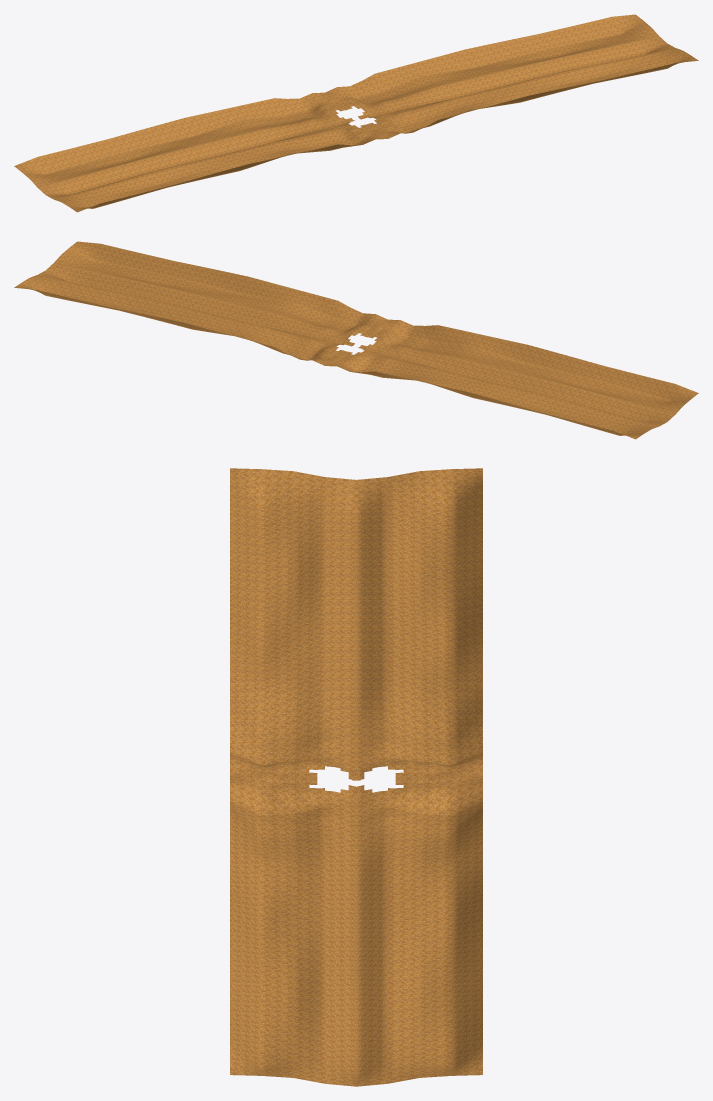
Rendered from Fondo.obj.
3 views of the same model, one above another, from view 1: azimuth 30°, elevation 25°; view 2: azimuth 150°, elevation 25°; view 3: azimuth 270°, elevation 25° (orthographic). The views are drawn at different scales.
Visible parts, largest first — view 1: Fondo; view 2: Fondo; view 3: Fondo.
Part boxes in pixels (bbox=[...]): Fondo: bbox=[14, 14, 698, 212]; Fondo: bbox=[14, 241, 698, 439]; Fondo: bbox=[230, 468, 482, 1086].
Bounding box in the file's own units: 1630 × 45.09 × 288.
Materials: 1 (1 with a texture image).
